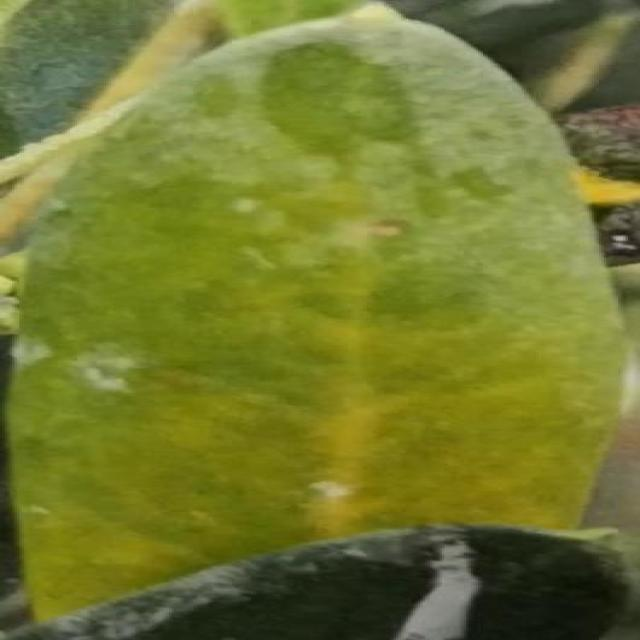OlivePeacockSpot: (8, 0, 618, 611)
